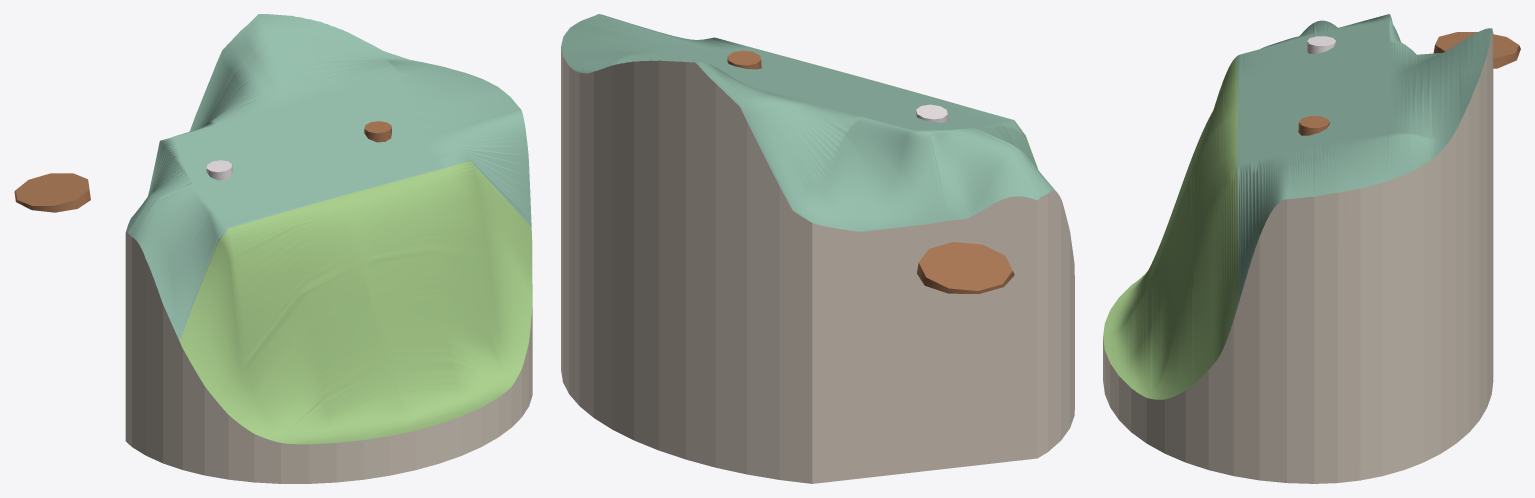
File: central-shoulder-components-normal-v2.glb
The picture shows the model from 3 angles, left to right: view 1: azimuth 30°, elevation 25°; view 2: azimuth 150°, elevation 25°; view 3: azimuth 270°, elevation 25°; orthographic projection. The views are drawn at different scales.
Visible parts, largest first — view 1: Central shoulder / continuous closed supporting soil, l33 / source-contour planted root continuation; view 2: Central shoulder / continuous closed supporting soil, l33 / source-contour planted root continuation, l35 / source-contour planted root continuation; view 3: Central shoulder / continuous closed supporting soil, l33 / source-contour planted root continuation, l35 / source-contour planted root continuation.
Part boxes in pixels (x1,y1,x2,y2): Central shoulder / continuous closed supporting soil: (125,14,532,483); l33 / source-contour planted root continuation: (14,173,90,212); Central shoulder / continuous closed supporting soil: (561,14,1074,483); l33 / source-contour planted root continuation: (917,242,1014,294); l35 / source-contour planted root continuation: (727,50,761,69); Central shoulder / continuous closed supporting soil: (1103,14,1493,483); l33 / source-contour planted root continuation: (1433,32,1520,68); l35 / source-contour planted root continuation: (1298,116,1329,135).
Size of the model in its own units: 3.32 by 2.46 by 2.57.
